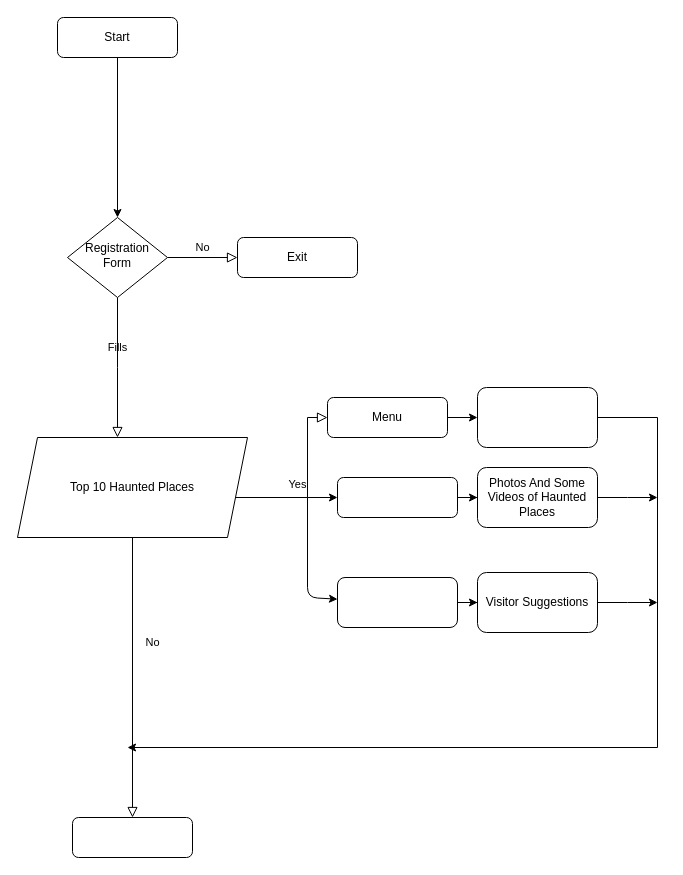
This 683x875 diagram has some shape labels left out. Here are the shapes that lost their labels. From the top down, the box of each, then its label:
(476, 386, 598, 448): List And Explanation of Top 10 Haunted Places In India
(336, 476, 458, 518): Gallery
(336, 576, 458, 628): Suggestions
(72, 816, 192, 858): End
